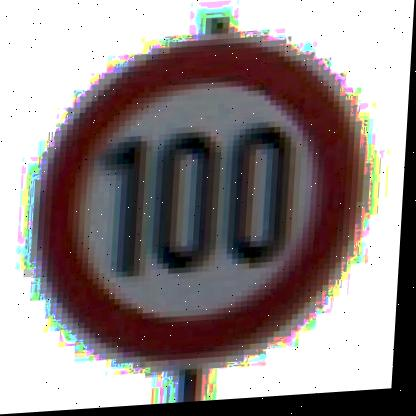Speed Limit -100-: (24, 25, 379, 379)
